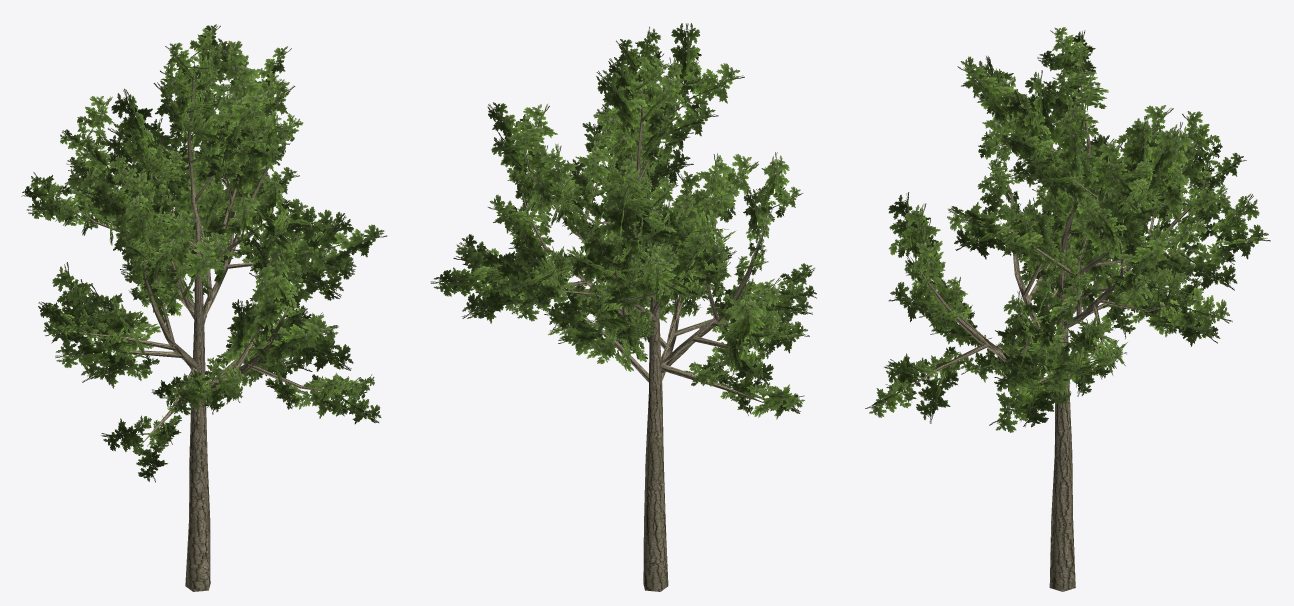
The model's file is ez-oak-01-medium.glb.
The picture shows the model from 3 angles, left to right: view 1: azimuth 30°, elevation 25°; view 2: azimuth 150°, elevation 25°; view 3: azimuth 270°, elevation 25°; orthographic projection.
Parts seen in each view (by area): view 1: leaves, branches; view 2: leaves, branches; view 3: leaves, branches.
Part boxes in pixels (bbox=[...]): leaves: bbox=[21, 24, 387, 482]; branches: bbox=[55, 59, 347, 591]; leaves: bbox=[431, 23, 816, 419]; branches: bbox=[493, 75, 783, 591]; leaves: bbox=[865, 27, 1270, 432]; branches: bbox=[903, 64, 1211, 591].
Size of the model in its own units: 43.66 by 65.36 by 44.03.
Materials: 2 (2 with a texture image).
